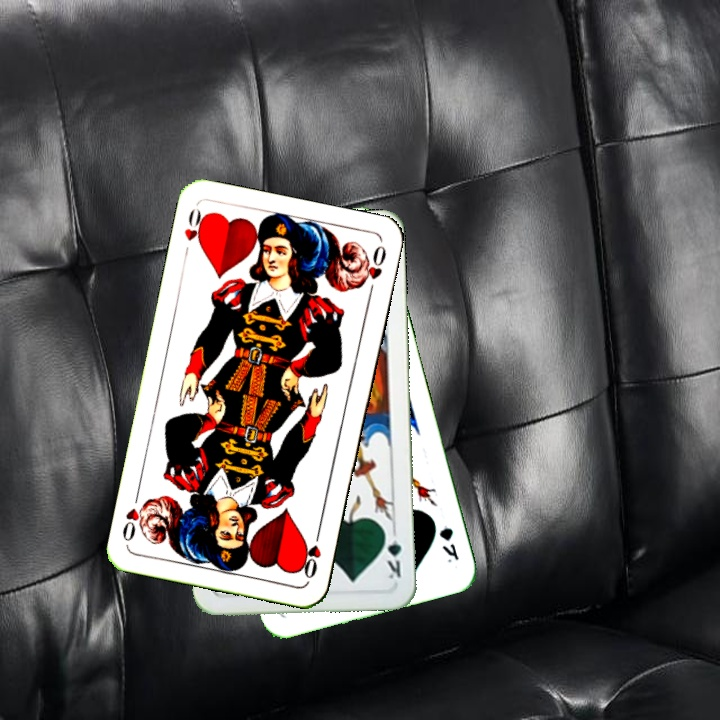GK: (381, 524, 404, 582), (435, 523, 462, 565)
HO: (179, 205, 210, 261), (299, 524, 324, 582)
